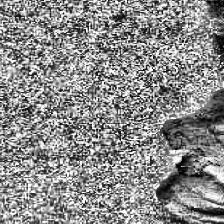disease: (157, 0, 224, 224)
